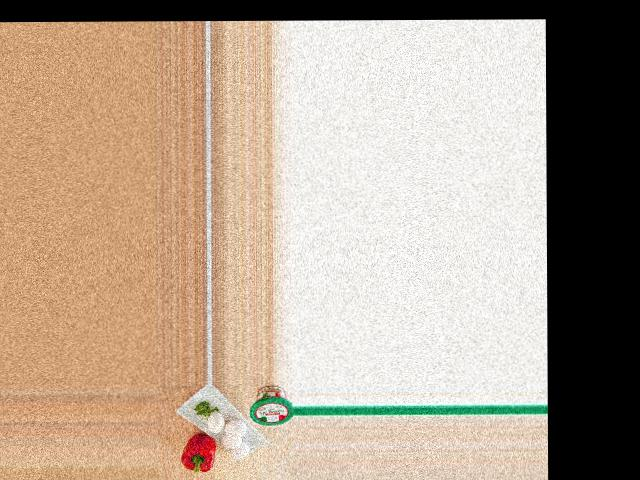bell_pepper: (178, 434, 222, 471)
